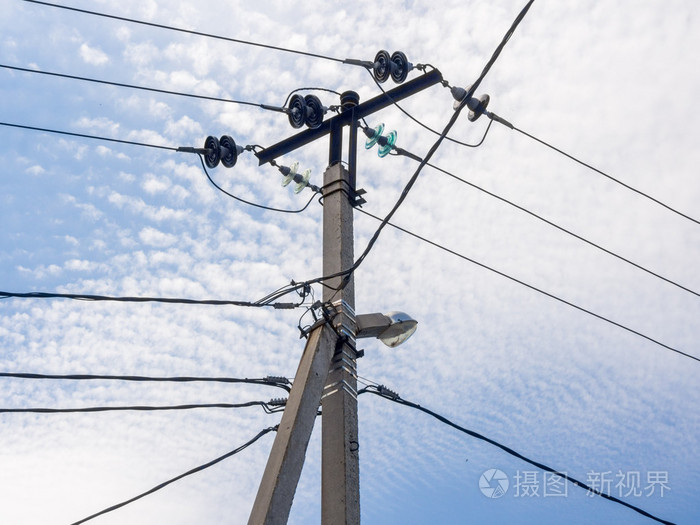insulator: (448, 83, 491, 121), (374, 48, 410, 87), (289, 92, 326, 129), (203, 133, 240, 169), (364, 120, 398, 157), (282, 159, 311, 193)
